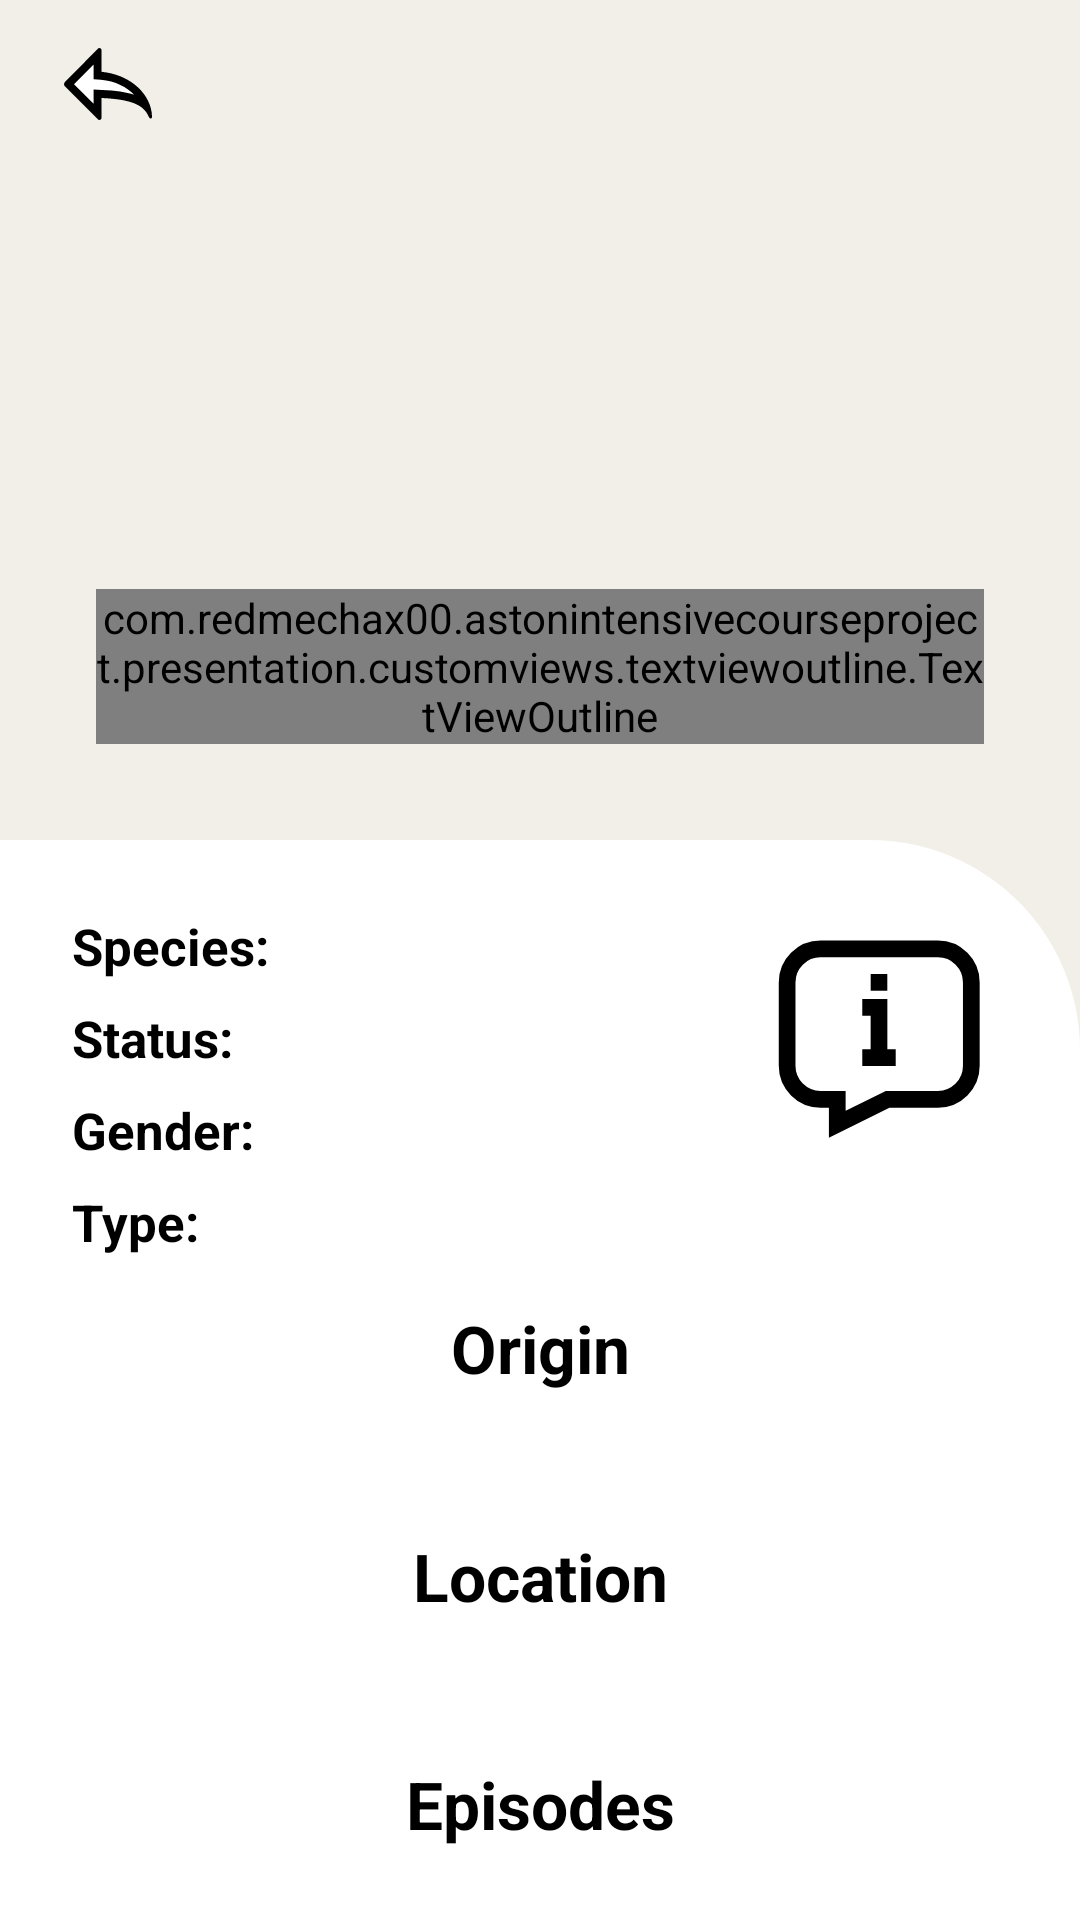

Where to tap for icons on this 1080*1920 app screen, as [x,y]:
back to stack: [108,84]
info: [879,1039]
